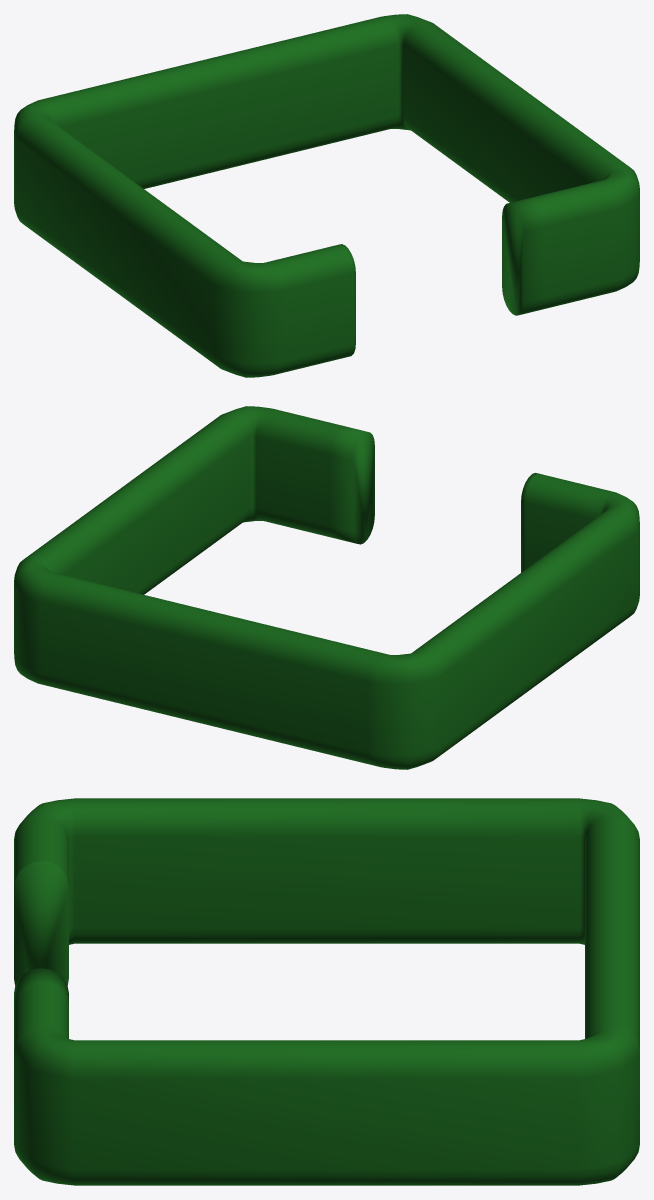
File: Arbustos.fbx
3 renders of one model, top to bottom at view 1: azimuth 30°, elevation 25°; view 2: azimuth 150°, elevation 25°; view 3: azimuth 270°, elevation 25°, orthographic. The views are drawn at different scales.
Parts seen in each view (by area): view 1: Arbusto.002; view 2: Arbusto.002; view 3: Arbusto.002.
Boxes of the visible parts, x1,y1,x2,y2 form: Arbusto.002: (14, 14, 639, 377); Arbusto.002: (14, 406, 639, 769); Arbusto.002: (14, 798, 639, 1185).
Bounding box in the file's own units: 1828 × 452 × 1825.
